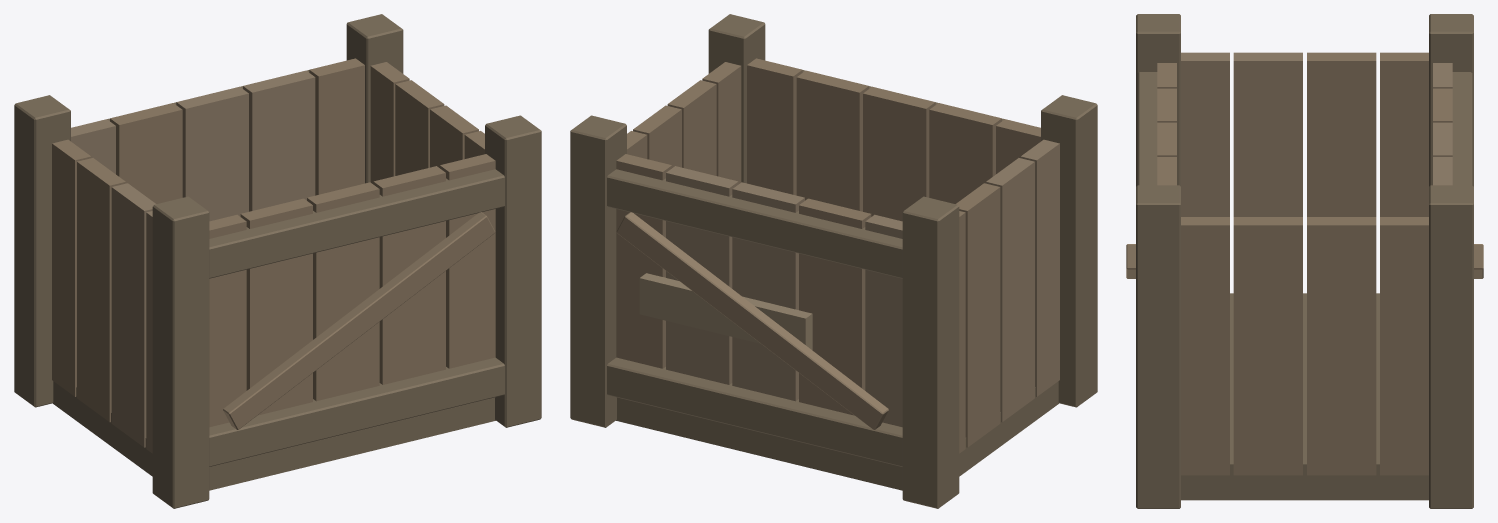
File: env_crate_v09_braced_open.glb
3 views of the same model, side by side, from view 1: azimuth 30°, elevation 25°; view 2: azimuth 150°, elevation 25°; view 3: azimuth 270°, elevation 25° (orthographic). The views are drawn at different scales.
Visible parts, largest first — view 1: material_0, material_2, material_5; view 2: material_2, material_0, material_5, material_6; view 3: material_0, material_2, material_5.
Boxes of the visible parts, <box> form: material_0: <box>52,58,495,466</box>; material_2: <box>14,14,541,508</box>; material_5: <box>71,70,315,453</box>; material_2: <box>570,14,1097,508</box>; material_0: <box>616,58,1040,457</box>; material_5: <box>666,139,1059,466</box>; material_6: <box>639,273,812,349</box>; material_0: <box>1126,52,1483,475</box>; material_2: <box>1136,14,1473,508</box>; material_5: <box>1181,52,1452,216</box>.
Size of the model in its own units: 0.8 by 0.6 by 0.635.
